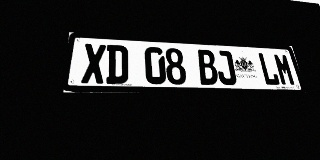0: (144, 47, 166, 84)
8: (164, 48, 187, 85)
B: (196, 49, 219, 85)
D: (106, 45, 128, 84)
J: (214, 50, 237, 85)
L: (257, 52, 281, 86)
M: (273, 53, 297, 86)
X: (81, 43, 106, 84)
